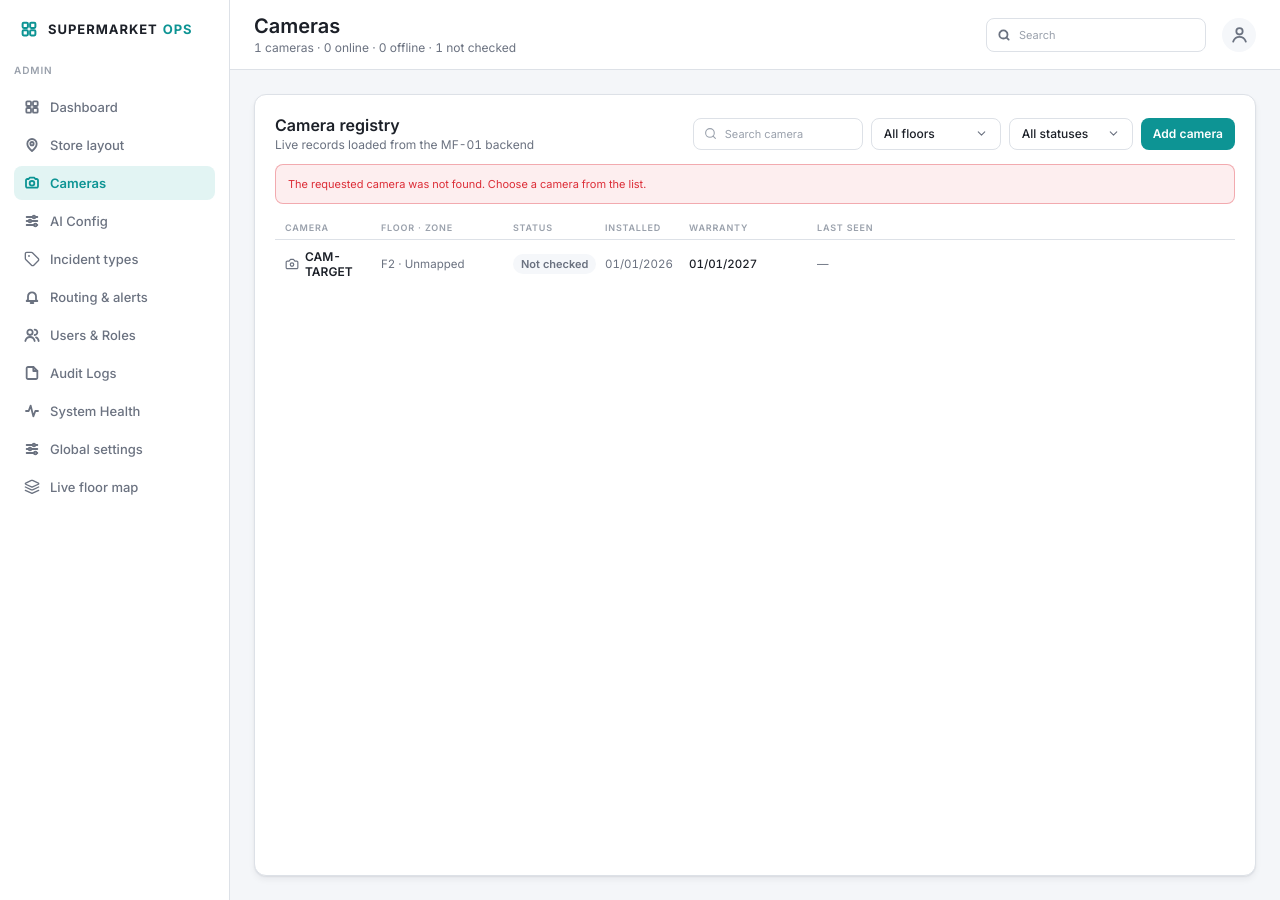
Test: Cameras registration › handles a dashboard camera link (missing-camera) without selecting another camera
Expected: the message shows "The requested camera was not found.", [288,177,646,191]
Expected: the text "Upper floor · Upper aisle camera" is not shown
Click the row "CAM-TARGET F2 · Unmapped Not checked 01/01/2026 01/01/2027 —". click: (755, 264)
box: [275,239,1235,288]
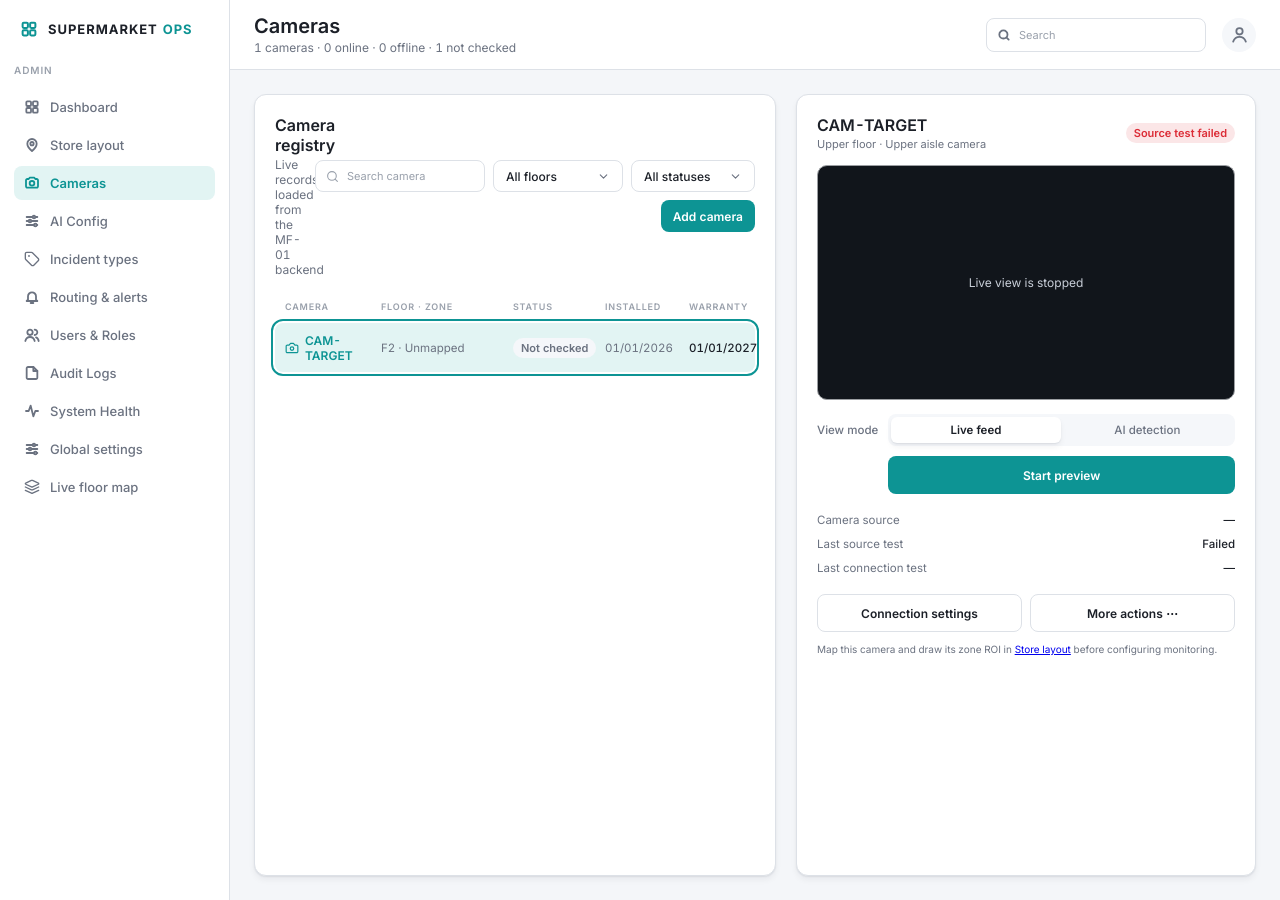
Expected: the text "Upper floor · Upper aisle camera" is shown, [817,137,986,151]
Expected: the message "The requested camera was not found. Choose a camera from the list." is gone
